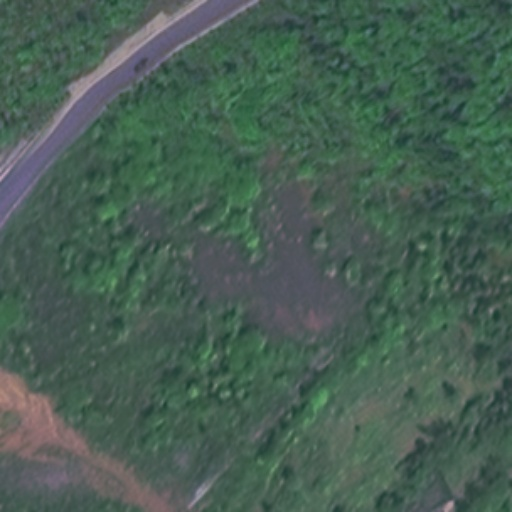landslide: (171, 182, 372, 339), (5, 373, 158, 499)
